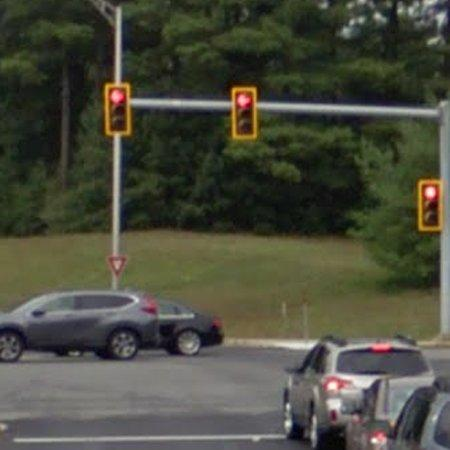traffic lights: (231, 85, 258, 140)
